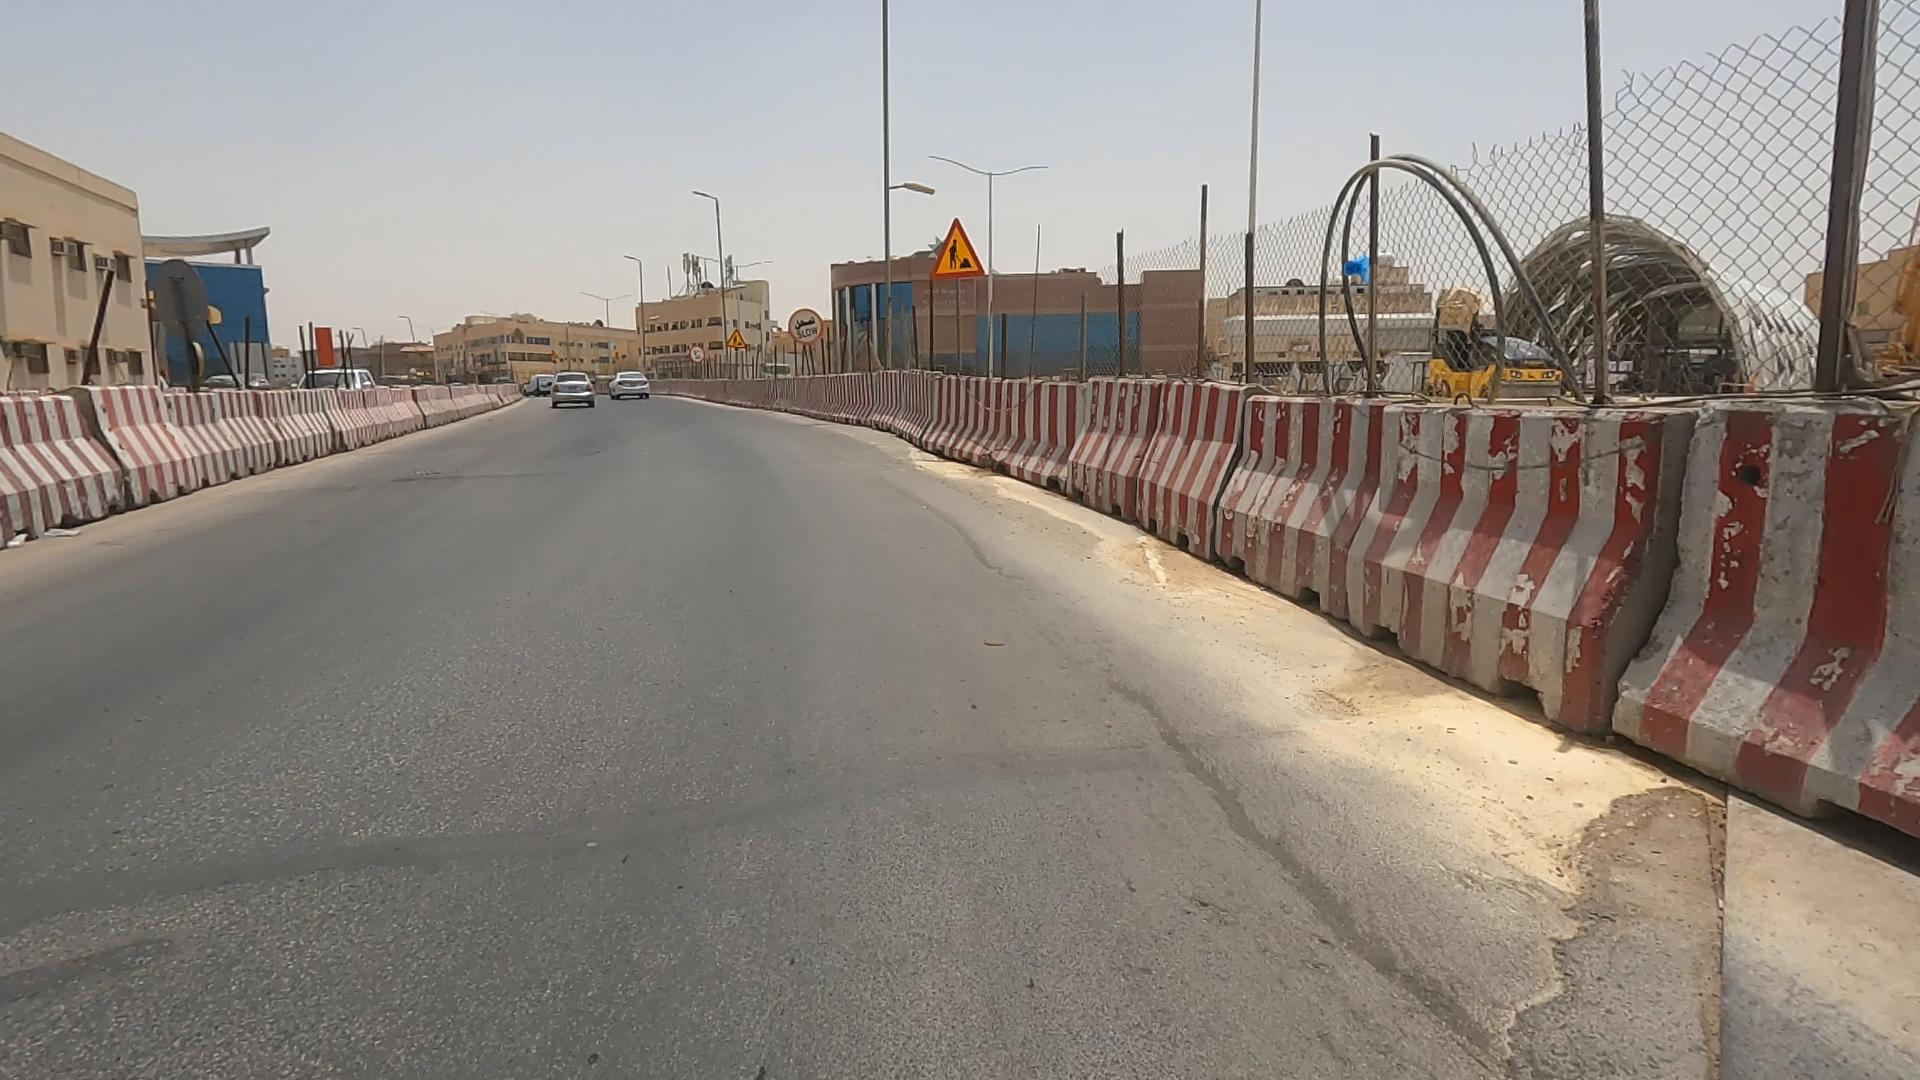CONSTRUCTION_ROAD: (10, 250, 580, 567)
